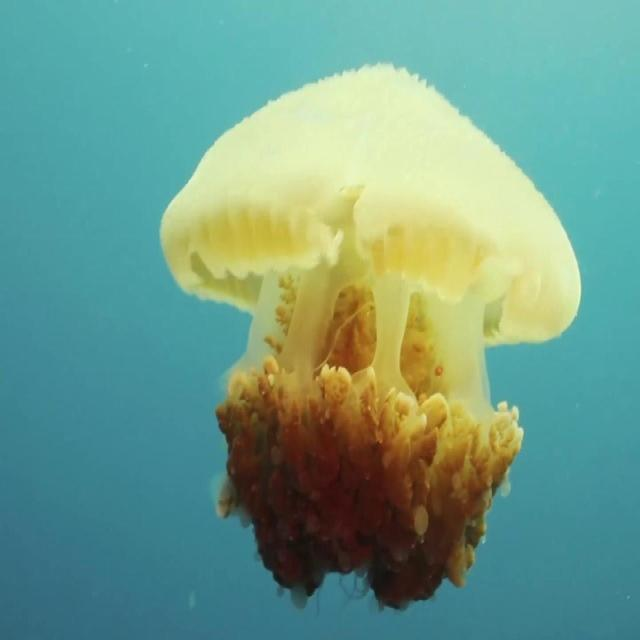reefs: (158, 65, 583, 611)
